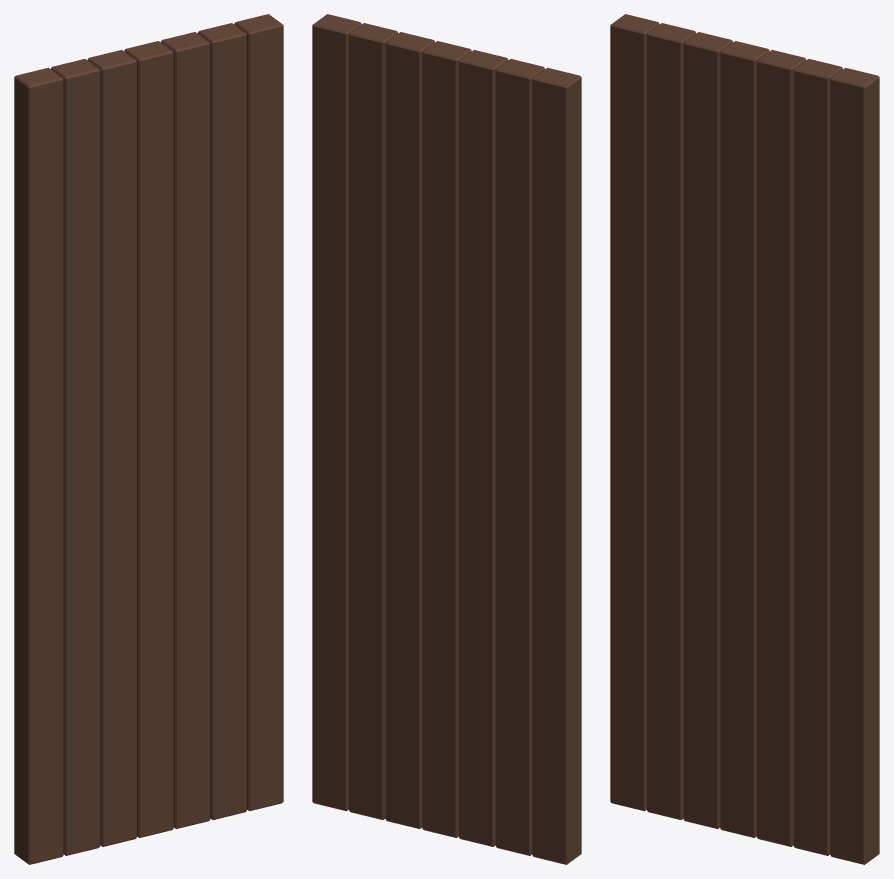
File: SM_Menu_ReturnWallBay.fbx
3 views of the same model, side by side, from view 1: azimuth 30°, elevation 25°; view 2: azimuth 150°, elevation 25°; view 3: azimuth 330°, elevation 25° (orthographic).
Visible parts, largest first — view 1: SM_Menu_ReturnWallBay; view 2: SM_Menu_ReturnWallBay; view 3: SM_Menu_ReturnWallBay.
Part boxes in pixels (left/top/right/bottom): SM_Menu_ReturnWallBay: left=14, top=14, right=283, bottom=864; SM_Menu_ReturnWallBay: left=312, top=14, right=581, bottom=864; SM_Menu_ReturnWallBay: left=610, top=14, right=879, bottom=864.
Size of the model in its own units: 230 by 24 by 670.
